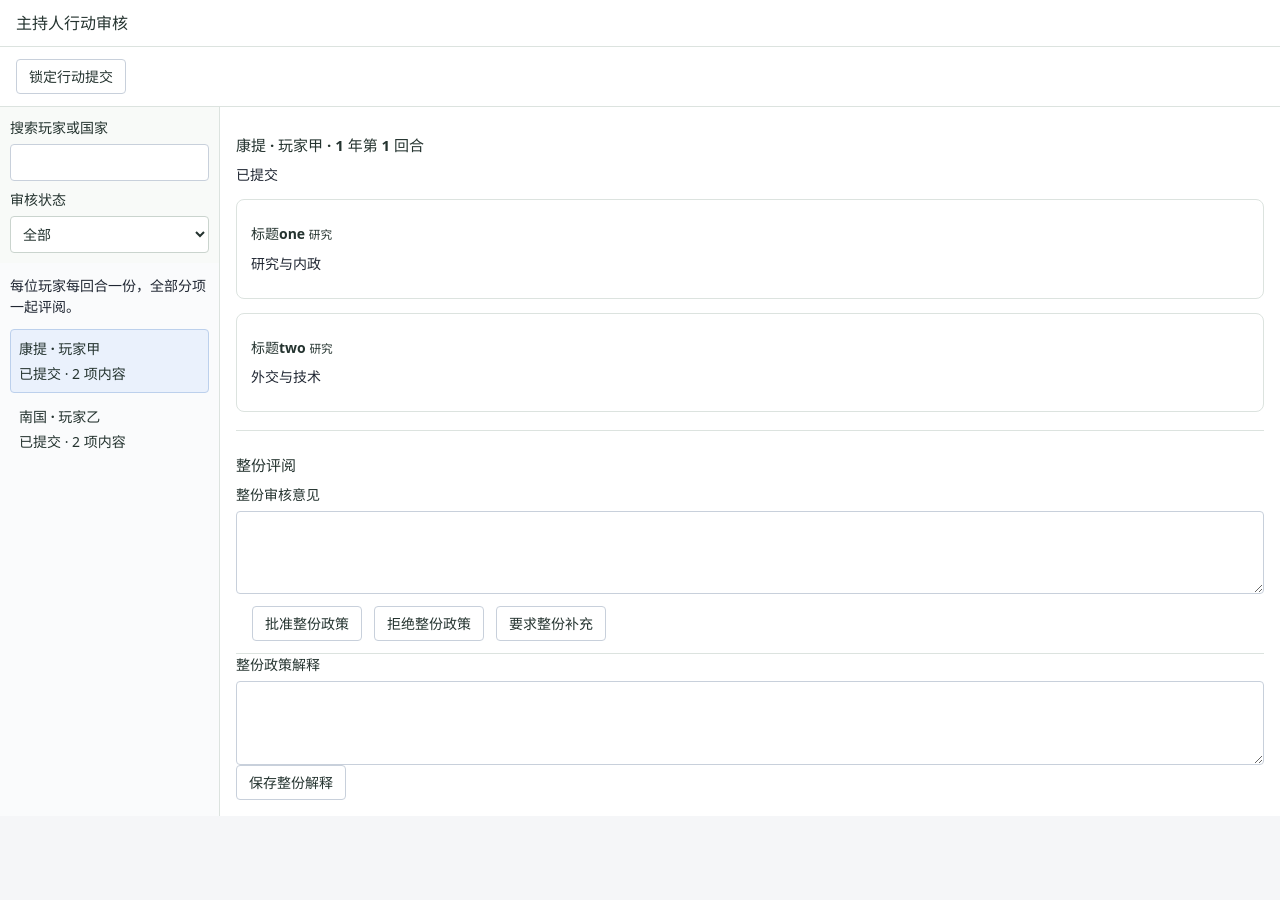
keeps cached opinions distinct when switching players, including leaving while another policy is selected
Type "甲的未提交意见" into the text box labelled "整份审核意见".
click(750, 553); type("甲的未提交意见")  # box [236,511,1264,594]
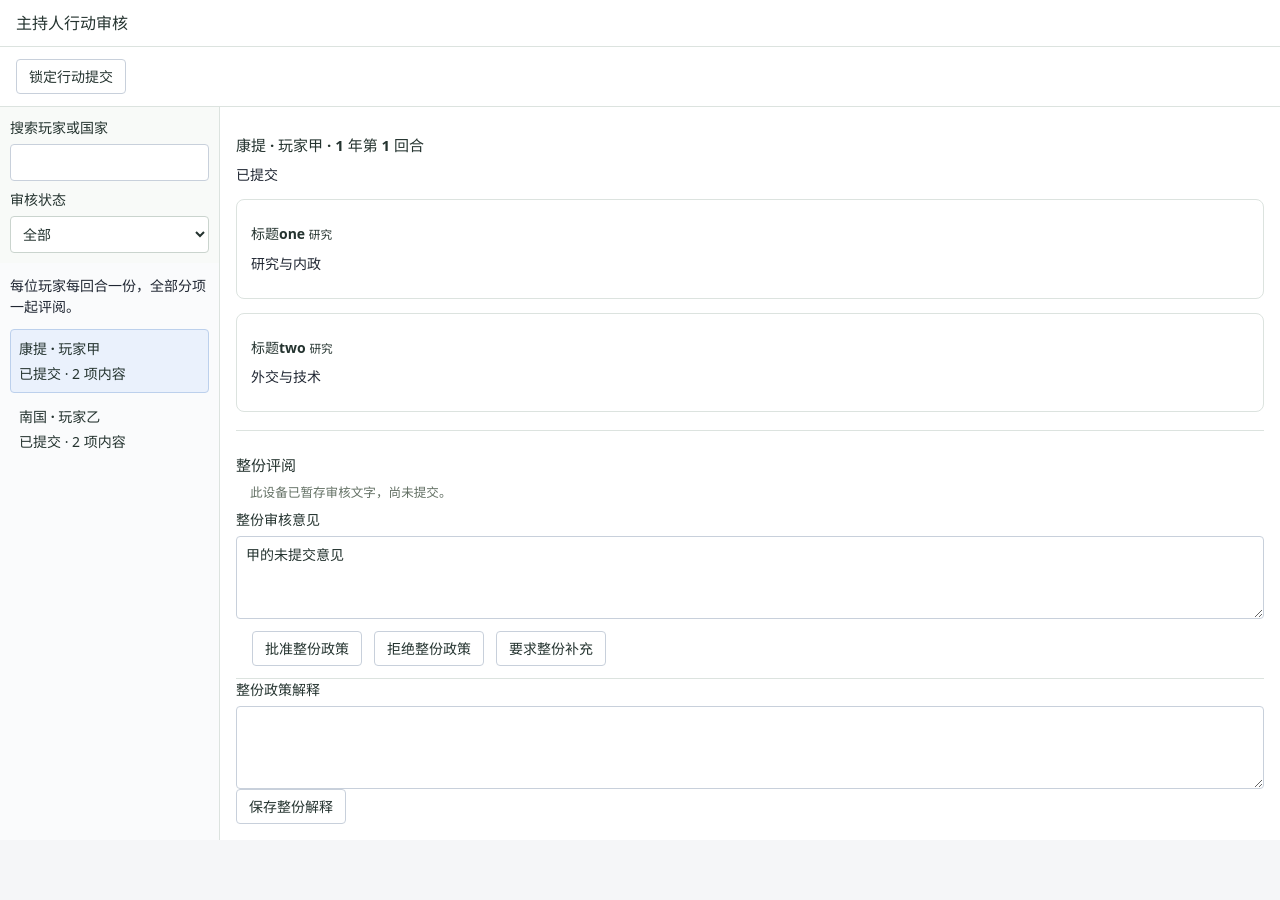
Click the button "南国 · 玩家乙 已提交 · 2 项内容".
click(110, 429)  # box [10,397,209,461]
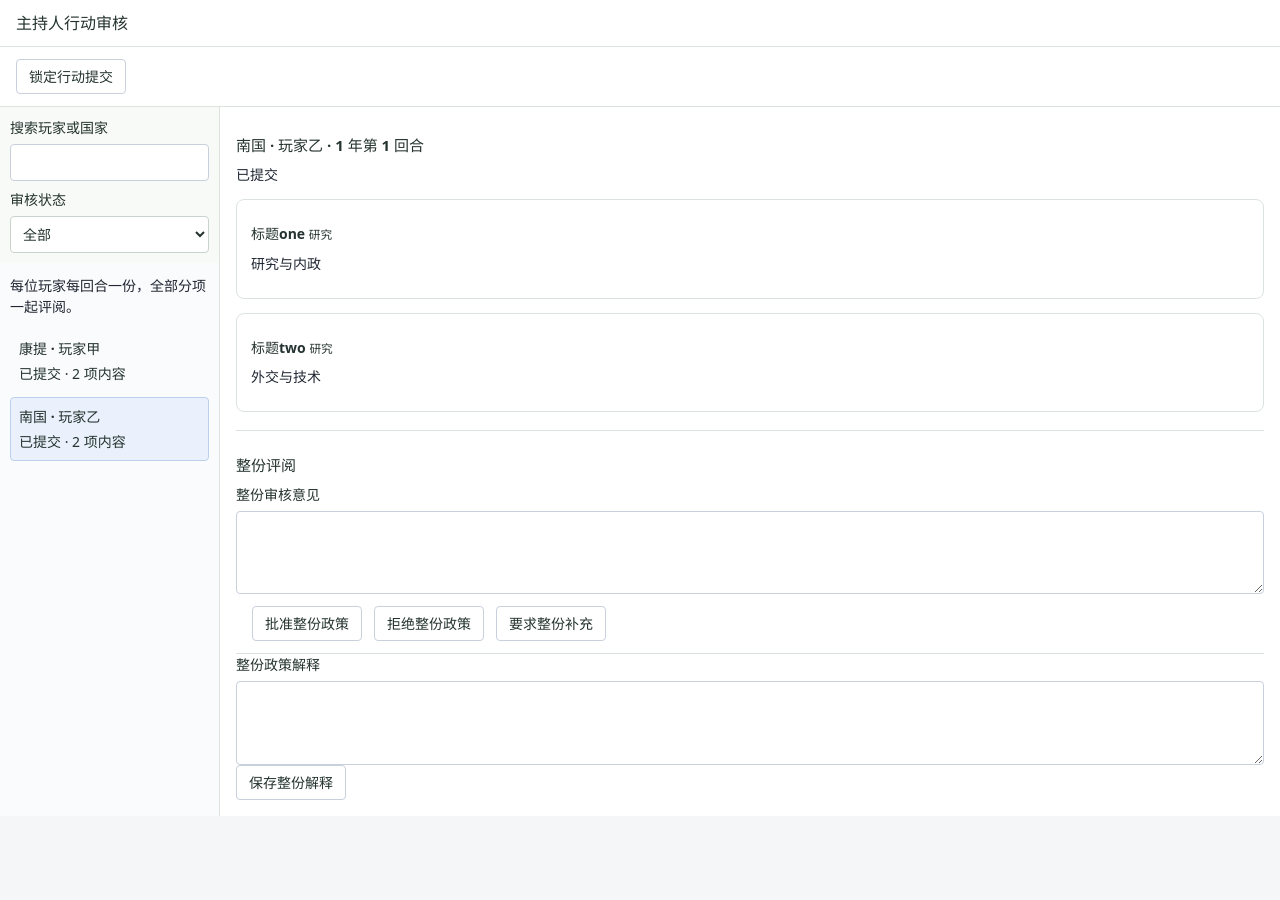
Expected: the text box labelled "整份审核意见" is empty
Type "乙的未提交意见" into the text box labelled "整份审核意见".
click(750, 553); type("乙的未提交意见")  # box [236,511,1264,594]
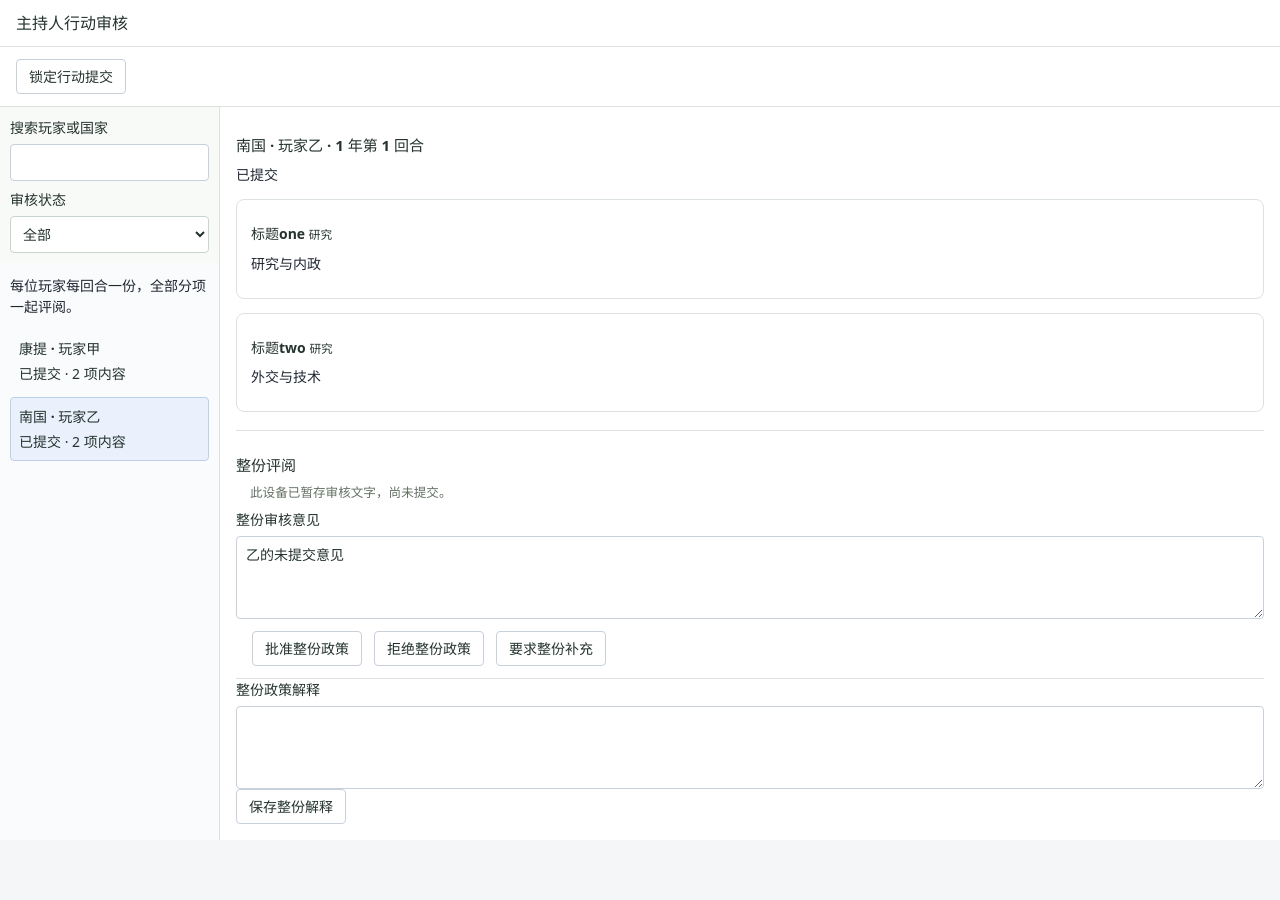
Click the button "康提 · 玩家甲 已提交 · 2 项内容".
click(110, 361)  # box [10,329,209,393]
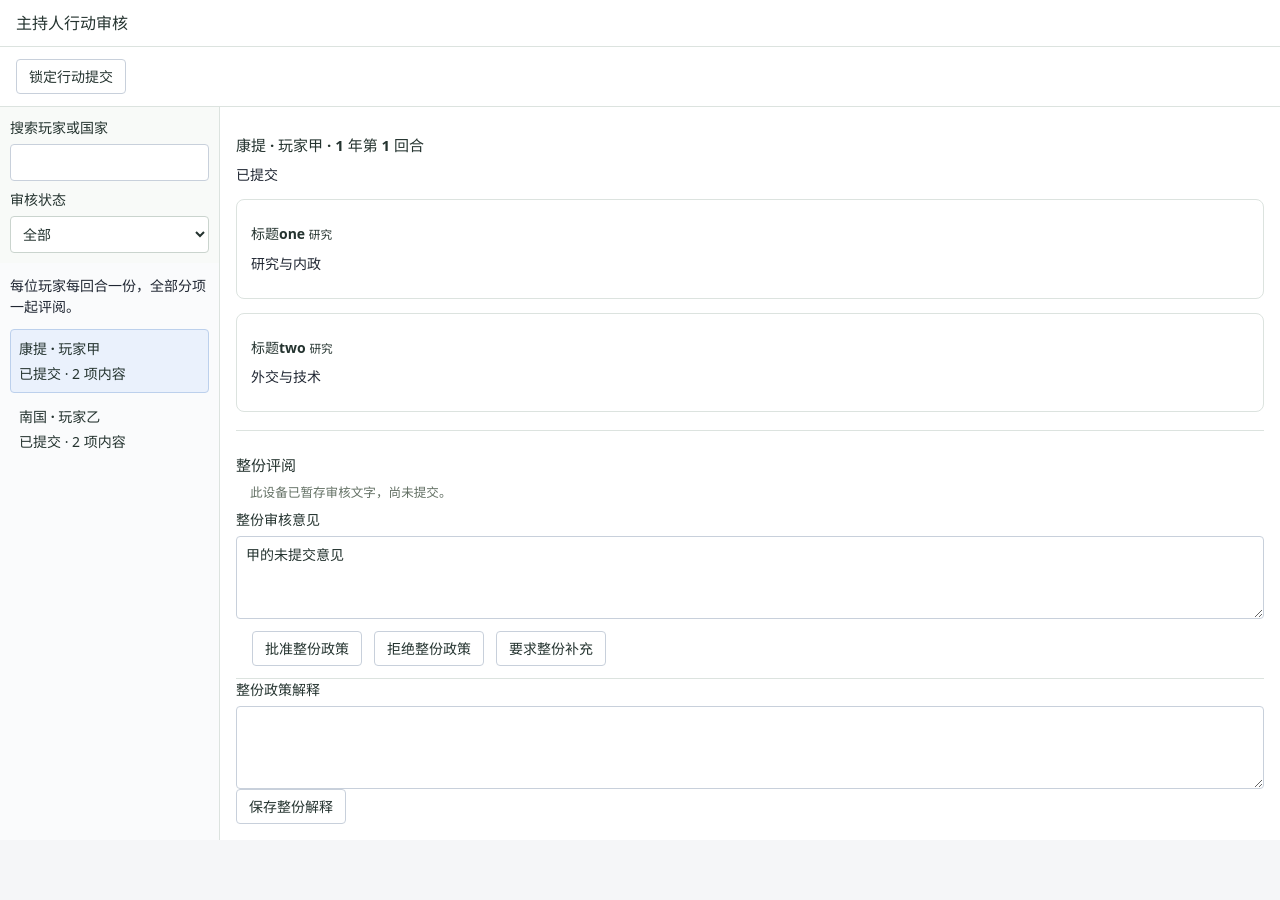
Expected: the text box labelled "整份审核意见" holds "甲的未提交意见", [236,536,1264,619]
